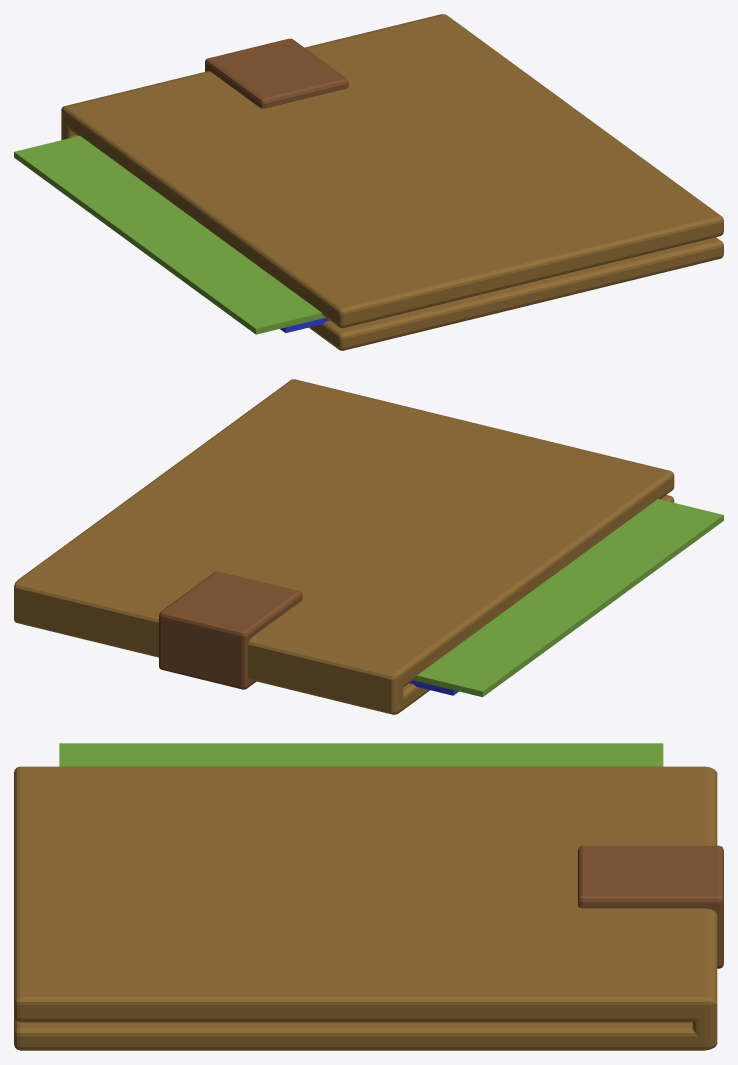
The model's file is Wallet Model.fbx.
3 views of the same model, one above another, from view 1: azimuth 30°, elevation 25°; view 2: azimuth 150°, elevation 25°; view 3: azimuth 270°, elevation 25° (orthographic). The views are drawn at different scales.
Visible parts, largest first — view 1: Wallet Body, Card 1, Wallet Clasp; view 2: Wallet Body, Card 1, Wallet Clasp; view 3: Wallet Body, Card 1, Wallet Clasp.
Boxes of the visible parts, left/top/right/bottom form: Wallet Body: left=61, top=14, right=723, bottom=350; Card 1: left=14, top=136, right=325, bottom=334; Wallet Clasp: left=205, top=38, right=348, bottom=108; Wallet Body: left=14, top=379, right=674, bottom=714; Card 1: left=413, top=499, right=723, bottom=697; Wallet Clasp: left=159, top=571, right=302, bottom=689; Wallet Body: left=14, top=766, right=717, bottom=1050; Card 1: left=59, top=743, right=663, bottom=766; Wallet Clasp: left=578, top=845, right=723, bottom=968.
Size of the model in its own units: 216 by 28.18 by 235.
